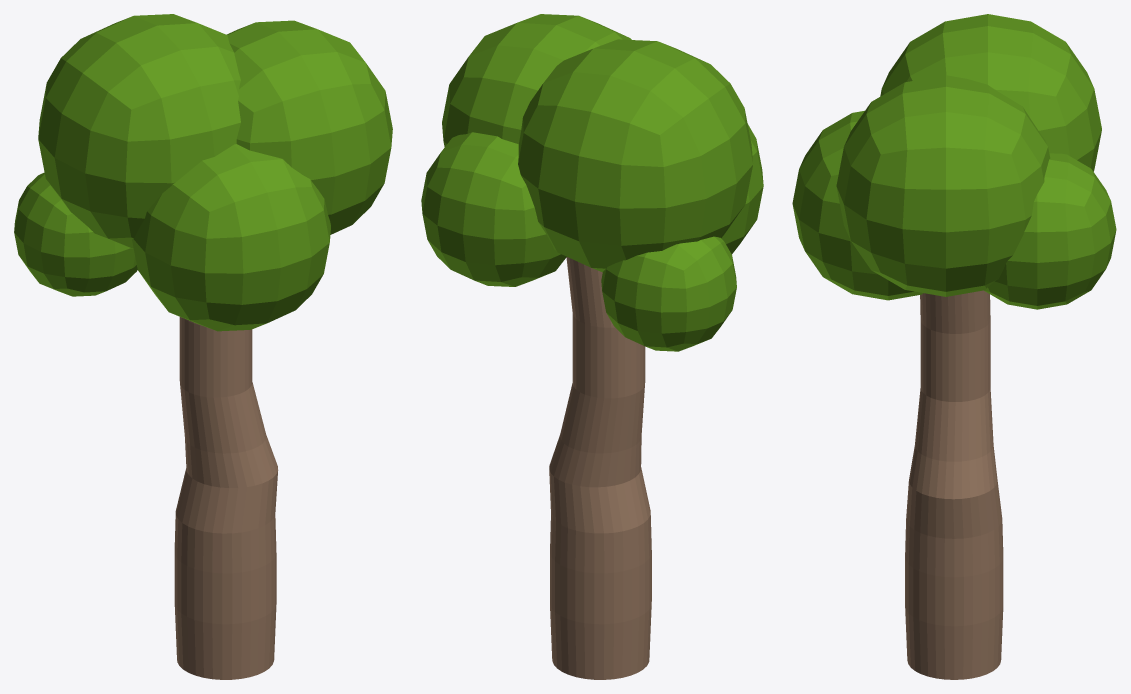
The model's file is Tree.fbx.
3 renders of one model, left to right at view 1: azimuth 30°, elevation 25°; view 2: azimuth 150°, elevation 25°; view 3: azimuth 270°, elevation 25°, orthographic. The views are drawn at different scales.
Parts seen in each view (by area): view 1: Tree; view 2: Tree; view 3: Tree.
Boxes of the visible parts, x1,y1,x2,y2 form: Tree: [14, 14, 392, 679]; Tree: [421, 14, 763, 679]; Tree: [792, 14, 1116, 679].
Bounding box in the file's own units: 602 × 1168 × 562.
